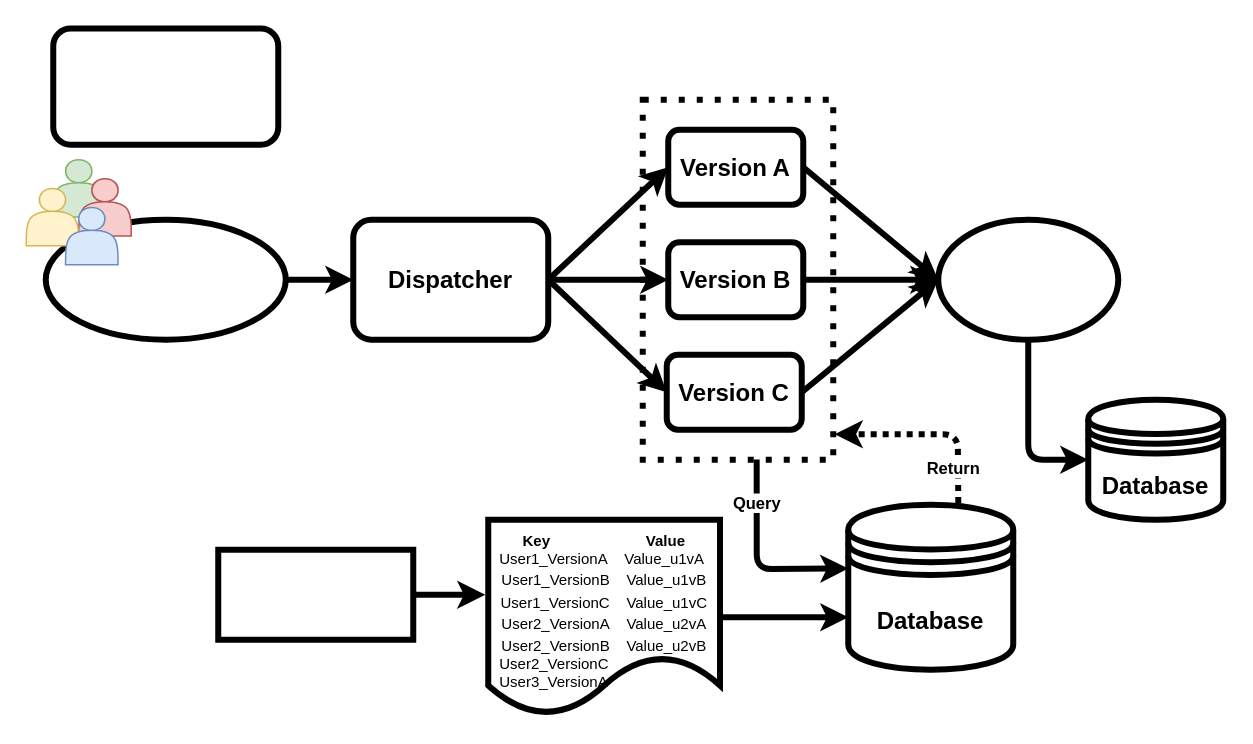
The diagram is 1253 pixels wide and 744 high, and some of its shapes have lost their labels. The box of each missing label's shape, as (x1, y1, x2, y2) in pixels:
A/B Testing: (50, 25, 280, 147)
Model: (214, 546, 416, 642)
Result: (934, 216, 1120, 342)
User List: (42, 216, 288, 342)
